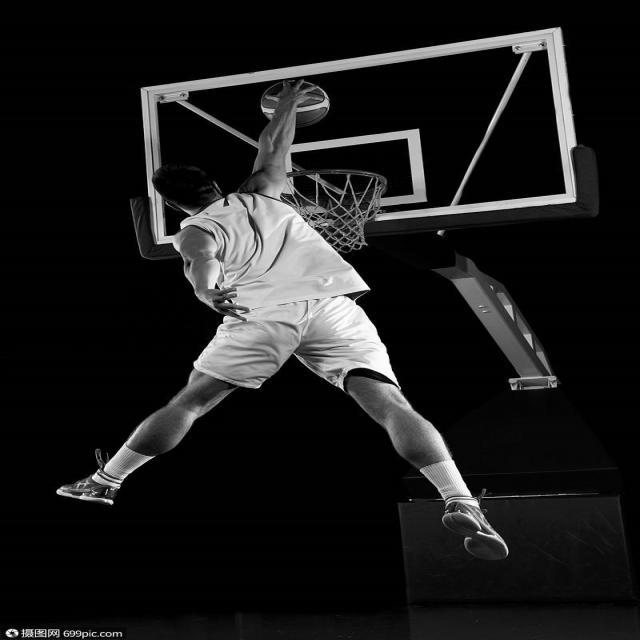rim: (258, 84, 330, 125)
